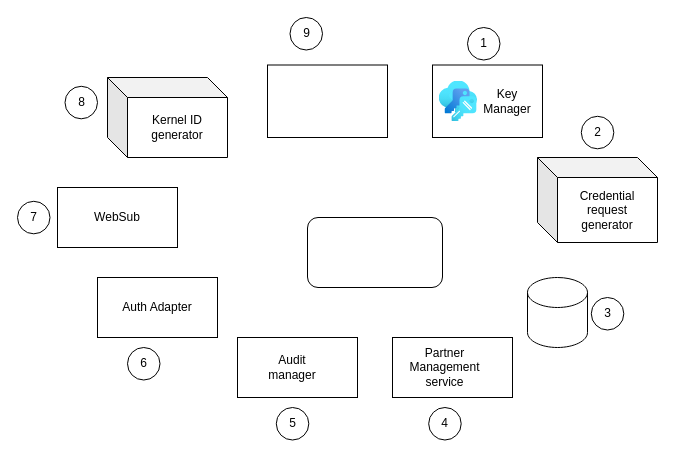
Image size: 675x458. Some labels were removed from this diagram. Each missing label, with the box of its shape:
DB: (526, 276, 588, 348)
Identity service: (266, 64, 388, 138)
VID Service: (306, 216, 442, 288)
